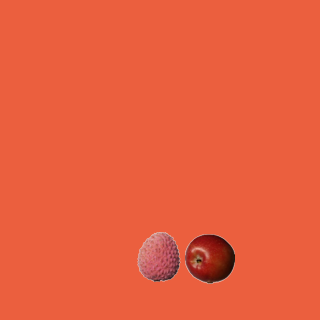Apple Braeburn: (184, 233, 234, 283)
Lychee: (133, 231, 183, 281)
